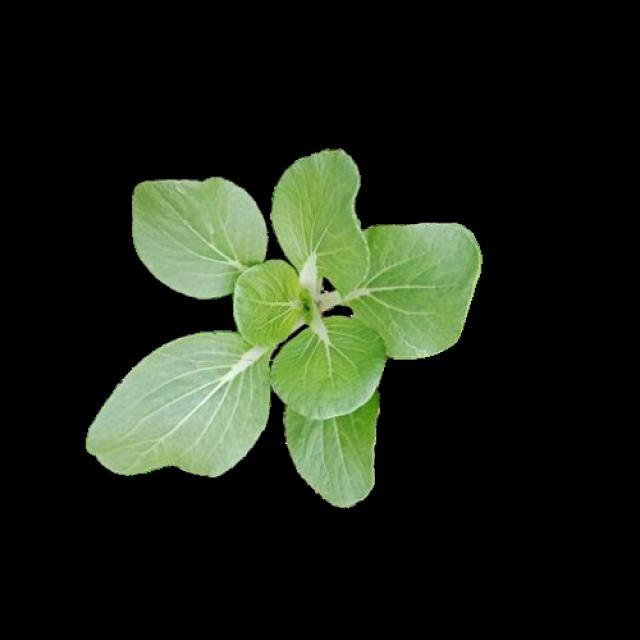healthy: (83, 145, 483, 504)
not-mature: (86, 147, 485, 507)
